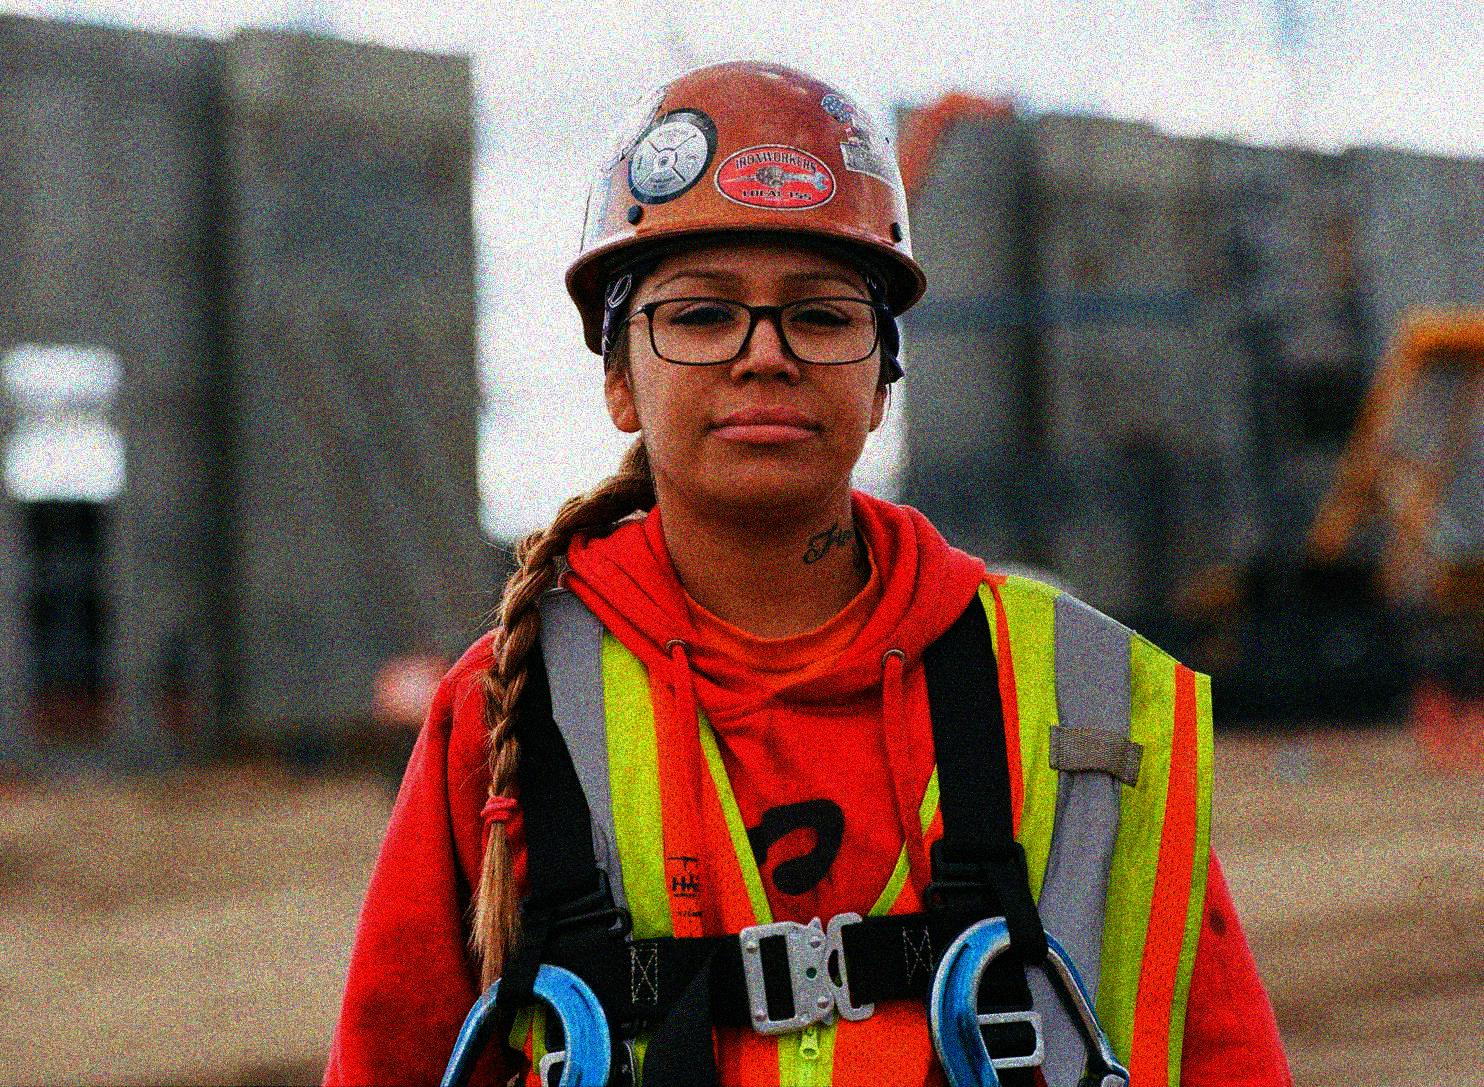helmet: (562, 55, 937, 523)
